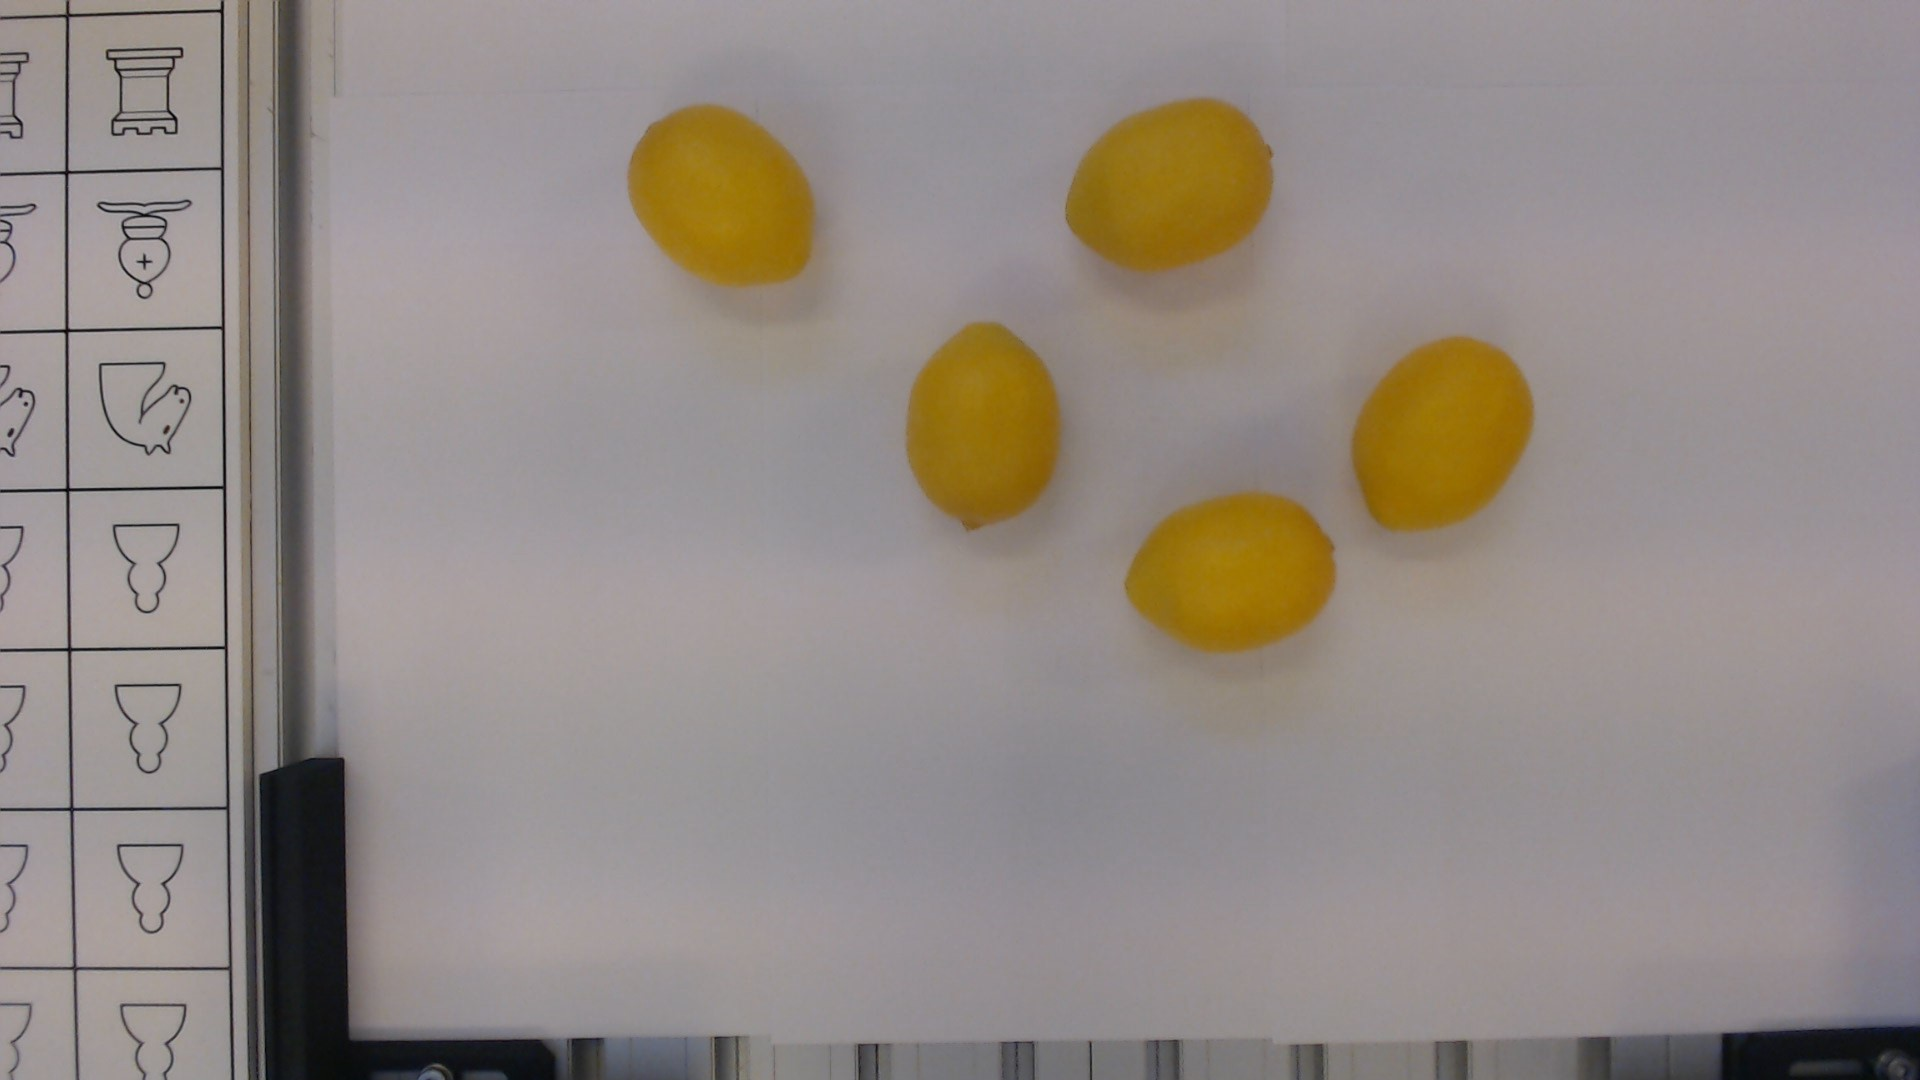Lemon: (1344, 330, 1539, 535), (620, 102, 823, 293), (1068, 91, 1280, 272), (1121, 489, 1341, 650), (909, 316, 1068, 538)
